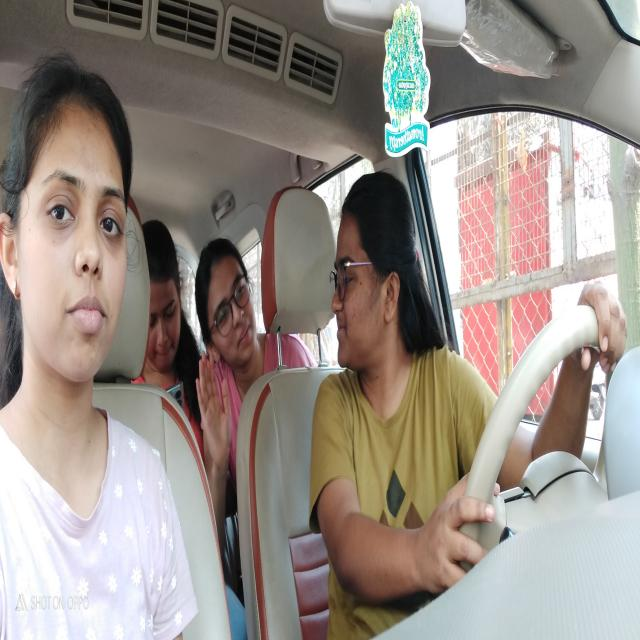LeftRight: (328, 171, 416, 385)
person: (8, 57, 132, 390), (194, 240, 261, 368), (142, 213, 184, 368)
